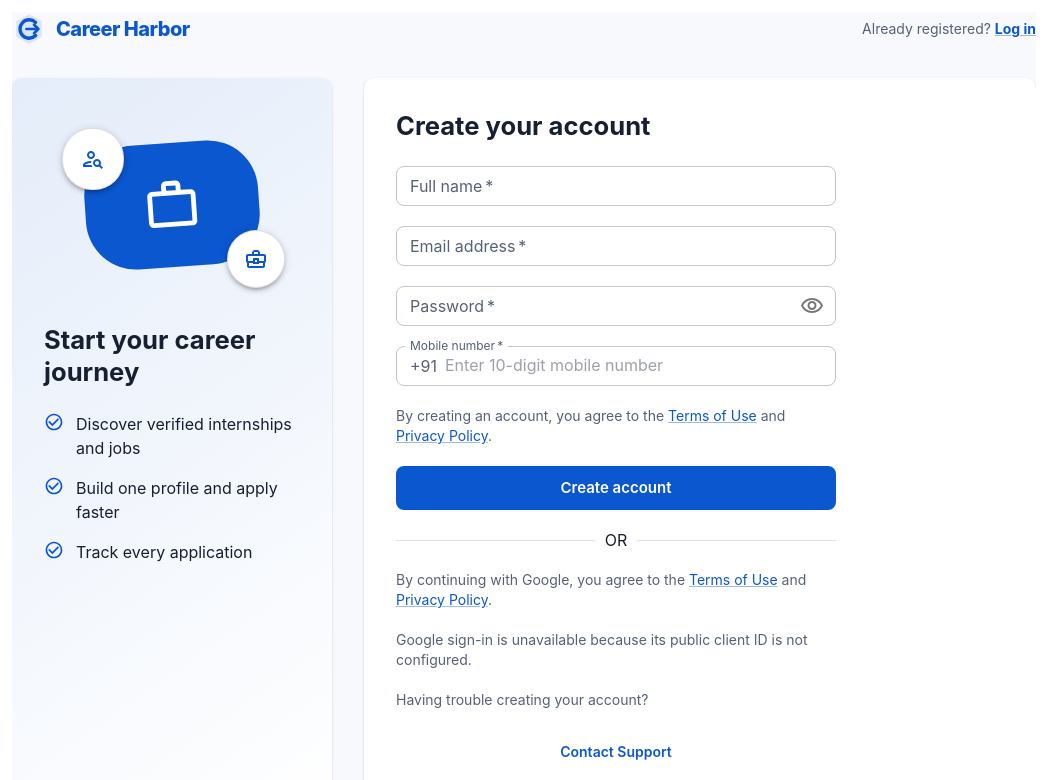
Test: email verification flow › shows a mobile field error when the mobile number is already registered
Type "Avery Patel" into the field labelled "Full name *" at (616, 186), box [396,166,836,206]
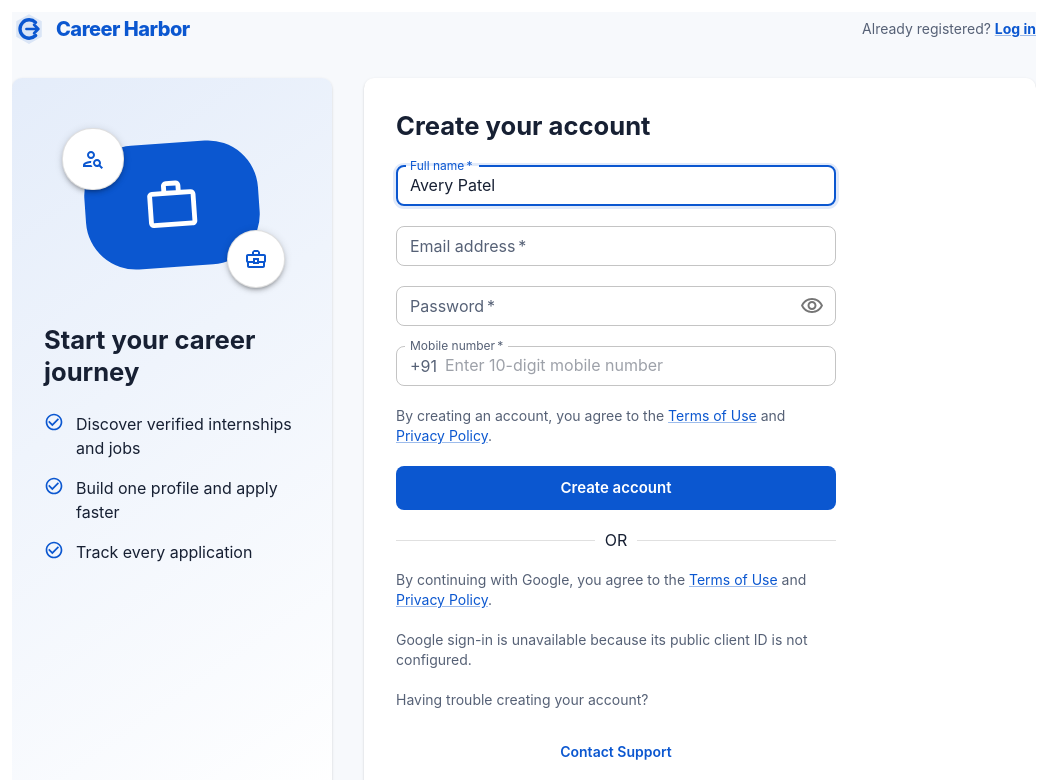
Type "candidate@example.com" into the field labelled "Email address *" at (616, 246), box [396,226,836,266]
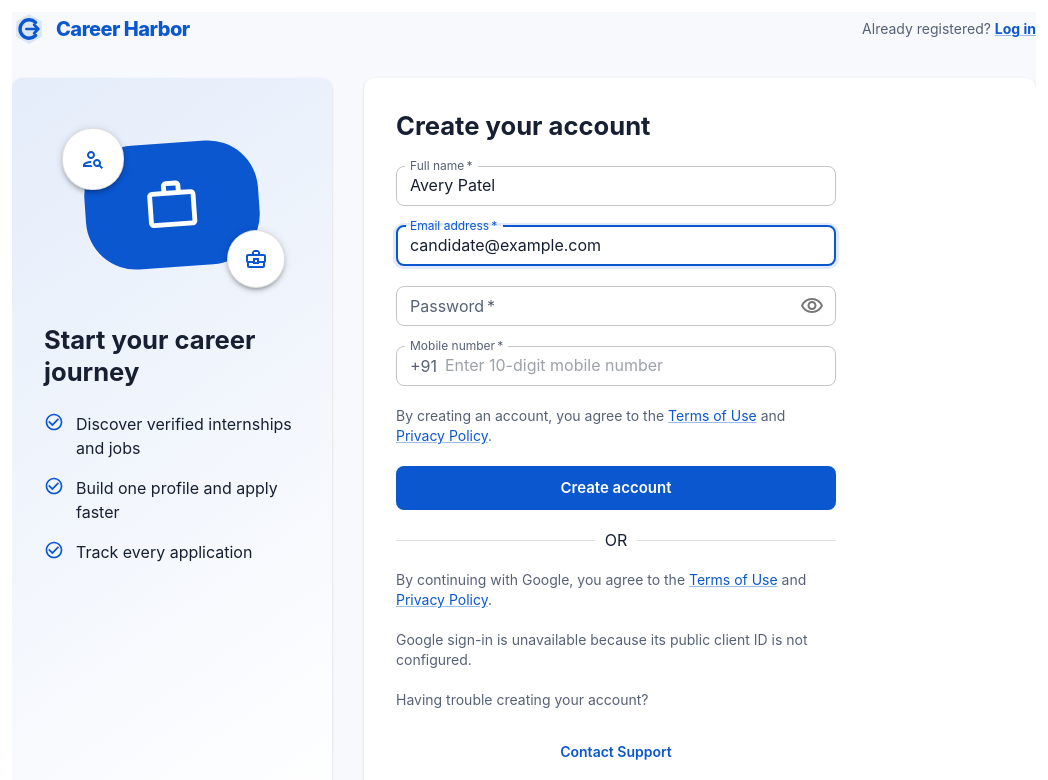
Type "abc 12!" into the password field labelled "Password *" at (589, 306), box [396,286,782,326]
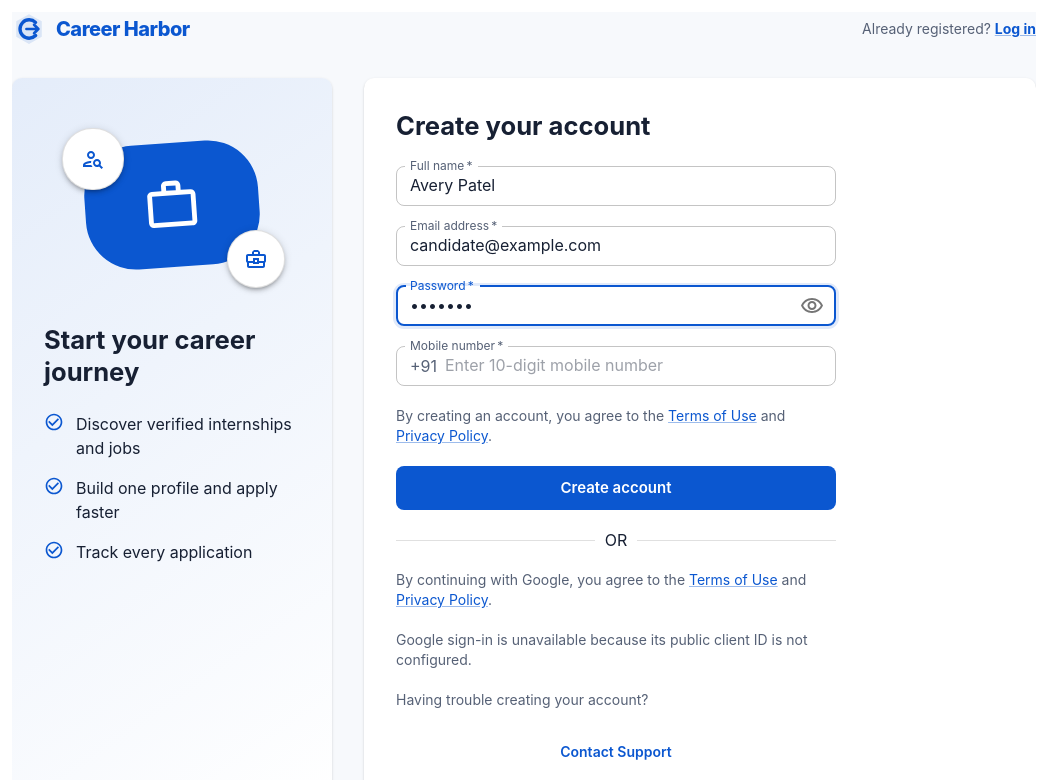
Type "9876543210" into the field labelled "Mobile number *" at (640, 366), box [445,346,836,386]
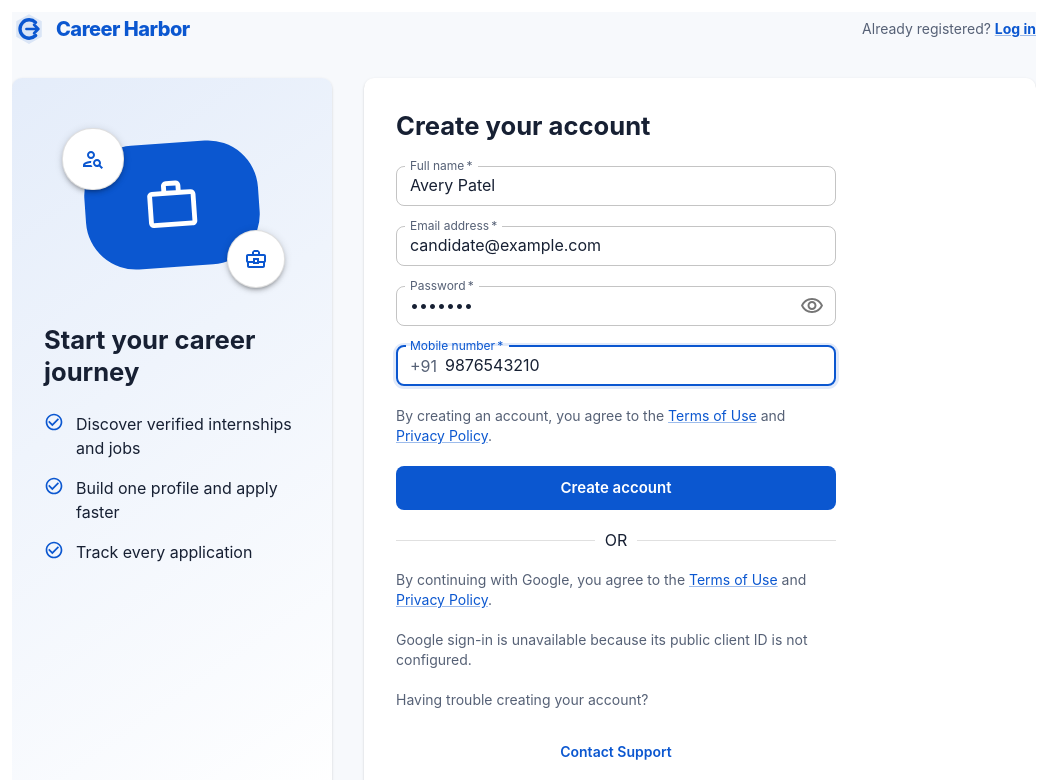
Click the button "Create account" at (616, 488), box [396,466,836,510]
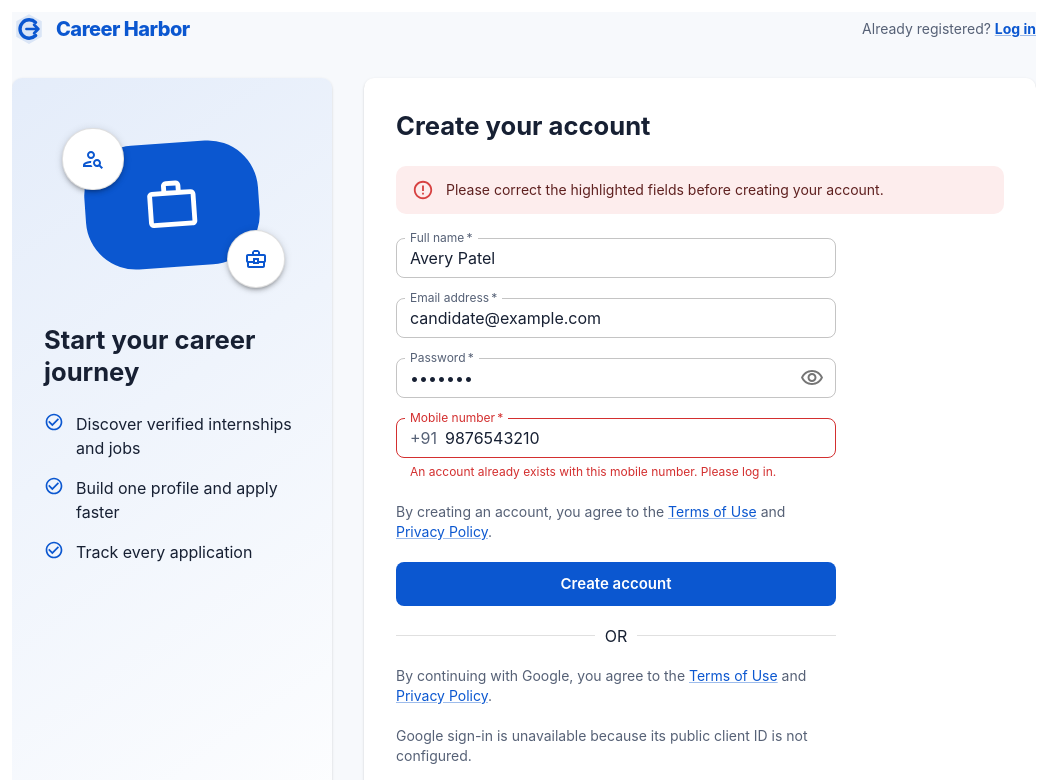
expect the text "An account already exists with this mobile number. Please log in." is shown: met, box [410,462,822,482]
